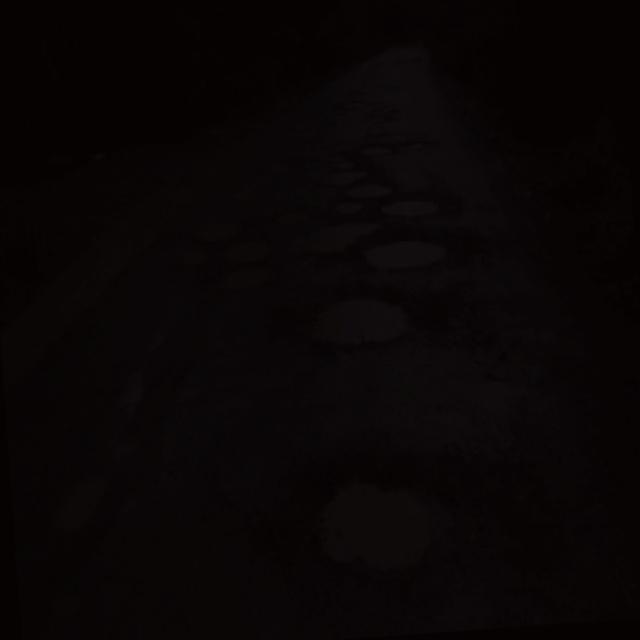Pothole: (298, 460, 447, 578), (292, 293, 427, 357), (264, 164, 352, 218), (44, 464, 106, 538), (356, 232, 456, 277), (376, 196, 448, 228), (296, 227, 381, 251), (233, 262, 292, 294), (229, 237, 281, 267), (196, 221, 253, 248), (347, 176, 394, 203), (363, 139, 446, 153), (174, 254, 221, 271)
